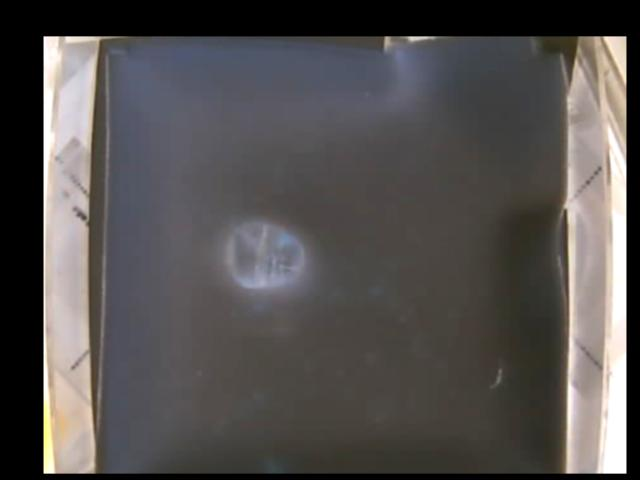Pebble: (229, 222, 304, 289)
